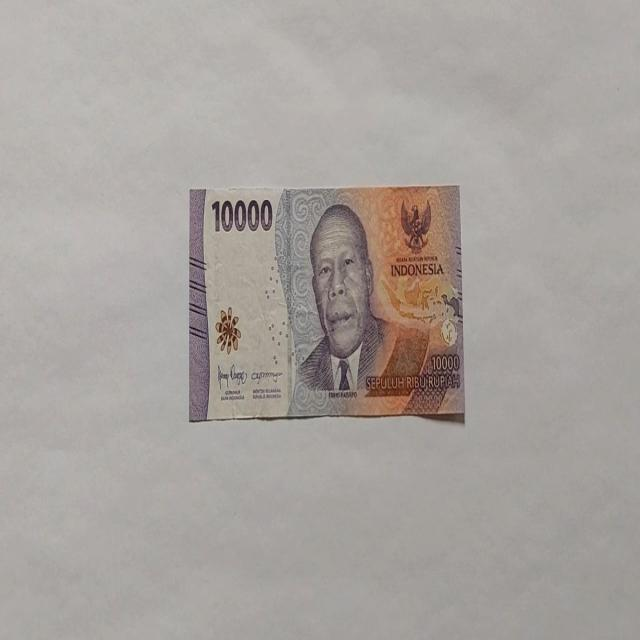Kertas: (188, 183, 465, 423), (210, 196, 274, 234)
